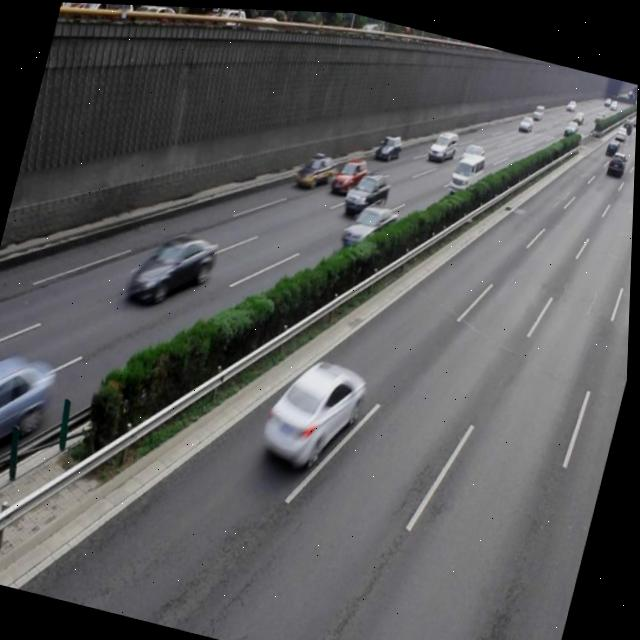car: (256, 346, 371, 477), (125, 219, 221, 316), (0, 341, 61, 488), (338, 194, 400, 254), (342, 162, 393, 217), (294, 144, 339, 188), (329, 147, 370, 195)
